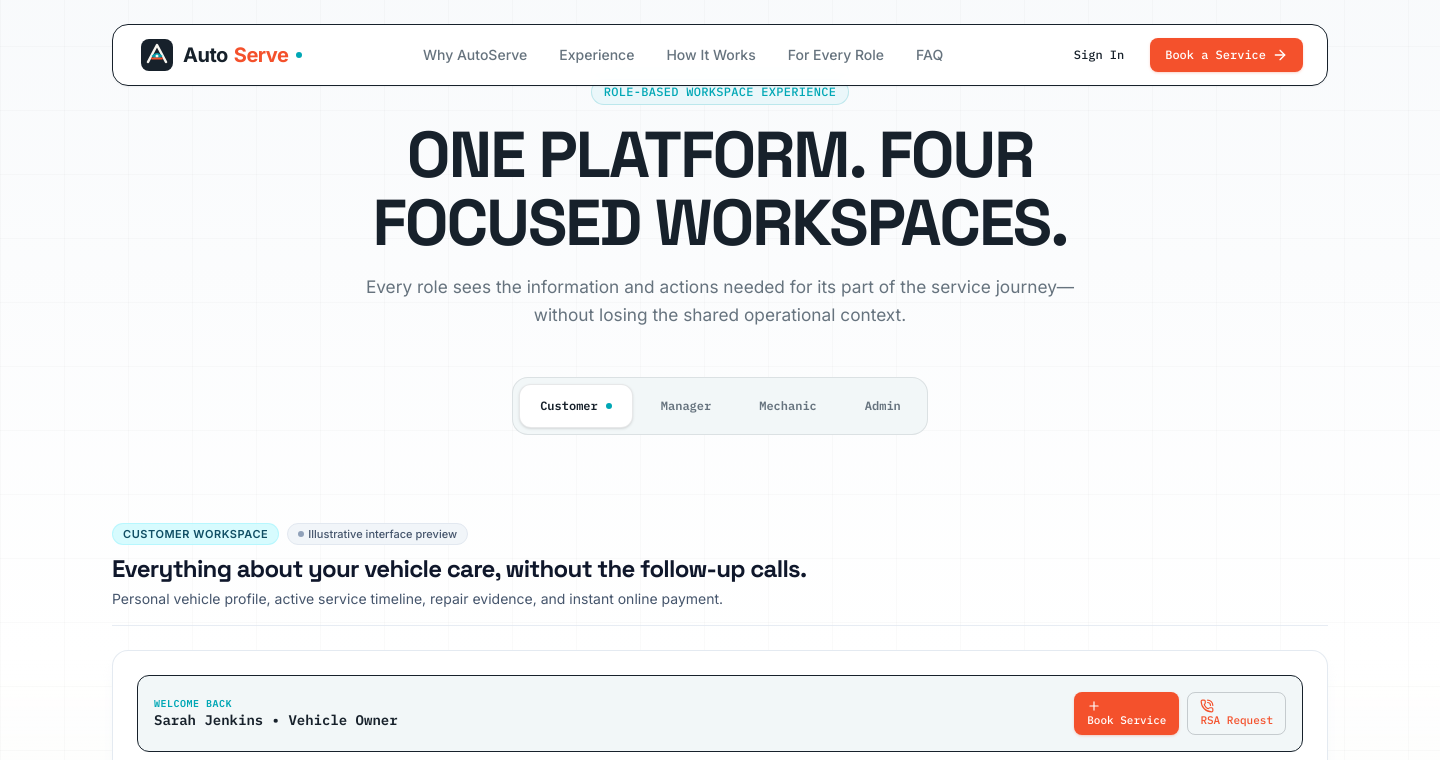
Test: AutoServe Part 6D — Trust, Evidence, Payment & Roadside Tests › 17. each role shows its focused-access explanation
This screenshot has width=1440, height=760.
(page scrolled)
Click the tab "Manager" at [686, 406], box [641,384,731,428]
(page scrolled)
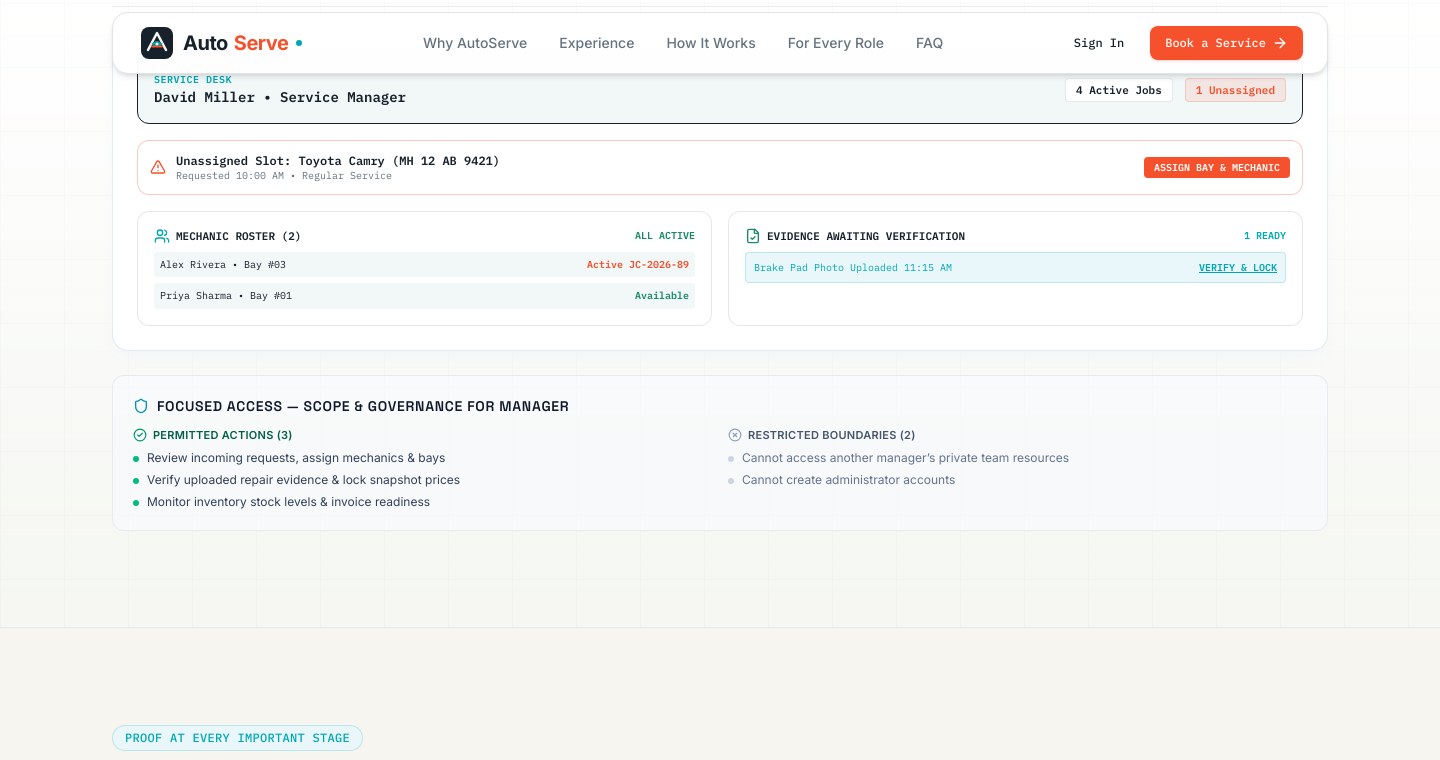
Check: the heading "Focused Access — Scope & Governance for Manager" is shown, box [157,396,569,416]
